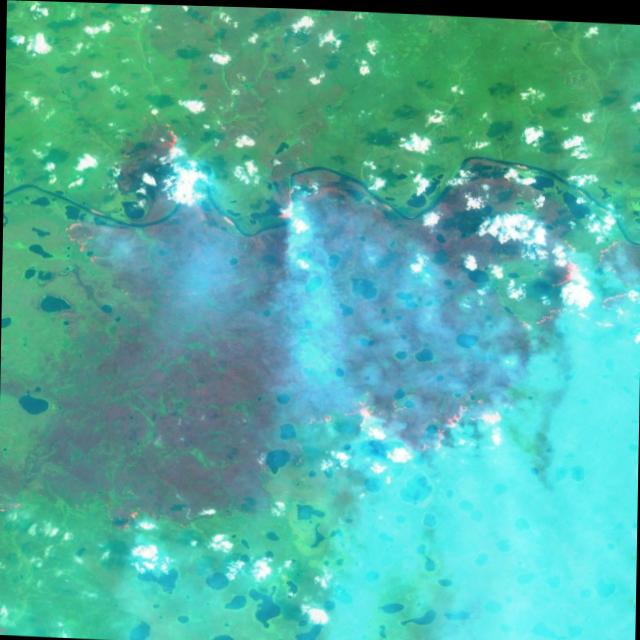fire: (502, 233, 640, 332), (108, 107, 192, 169), (260, 157, 311, 235), (54, 212, 106, 265), (96, 497, 144, 535)
